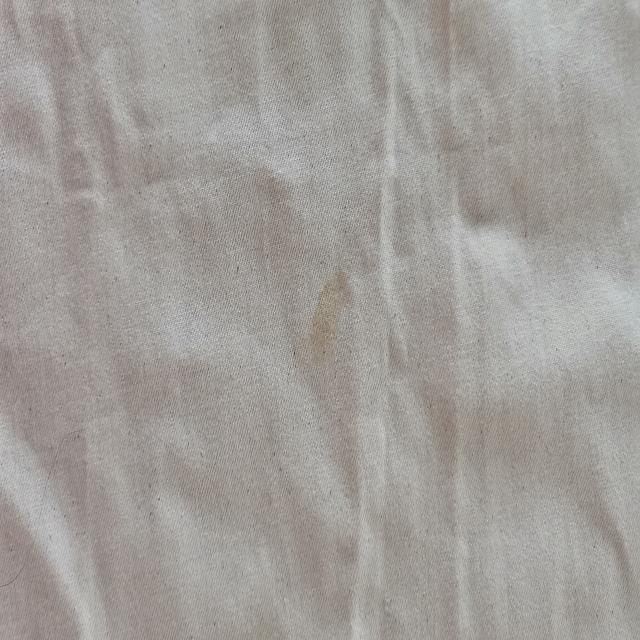taaaches: (306, 260, 358, 371)
